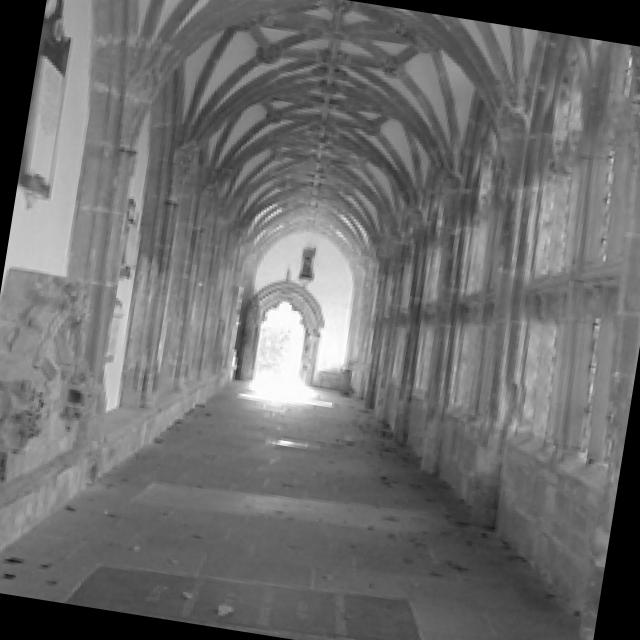bulletin board: (22, 56, 63, 183)
ceiling beam: (129, 0, 538, 275)
entrance: (253, 296, 304, 380)
floor -X: (0, 373, 579, 640)
wall clock: (339, 31, 640, 640), (0, 0, 255, 546), (233, 228, 355, 389)
